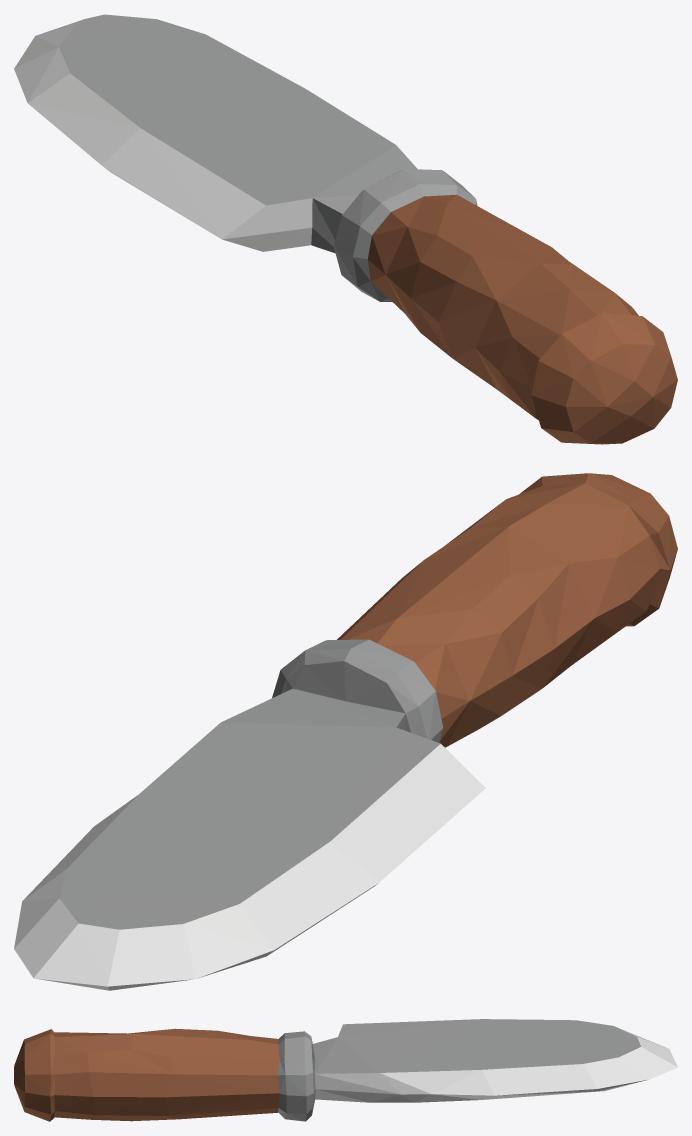
File: KitchenKnife.fbx
3 renders of one model, top to bottom at view 1: azimuth 30°, elevation 25°; view 2: azimuth 150°, elevation 25°; view 3: azimuth 270°, elevation 25°, orthographic. The views are drawn at different scales.
Visible parts, largest first — view 1: KitchenKnife; view 2: KitchenKnife; view 3: KitchenKnife.
Boxes of the visible parts, x1=… form: KitchenKnife: x1=14, y1=14, x2=677, y2=444; KitchenKnife: x1=14, y1=473, x2=677, y2=990; KitchenKnife: x1=14, y1=1019, x2=677, y2=1121.
Bounding box in the file's own units: 0.0642 × 0.25 × 0.035.
